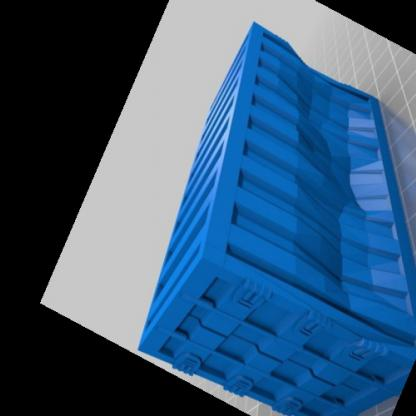Damage: (298, 70, 348, 295)
